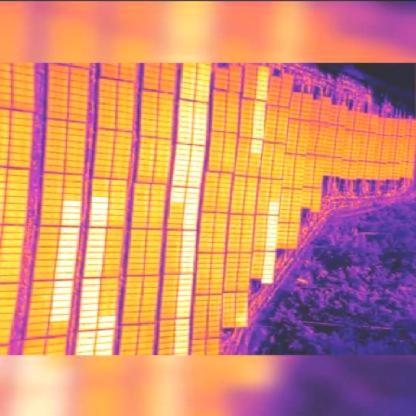anomaly: (174, 63, 211, 355), (76, 195, 110, 355), (50, 200, 83, 321), (170, 62, 197, 202), (249, 65, 270, 155), (261, 202, 279, 284), (94, 314, 118, 356)
